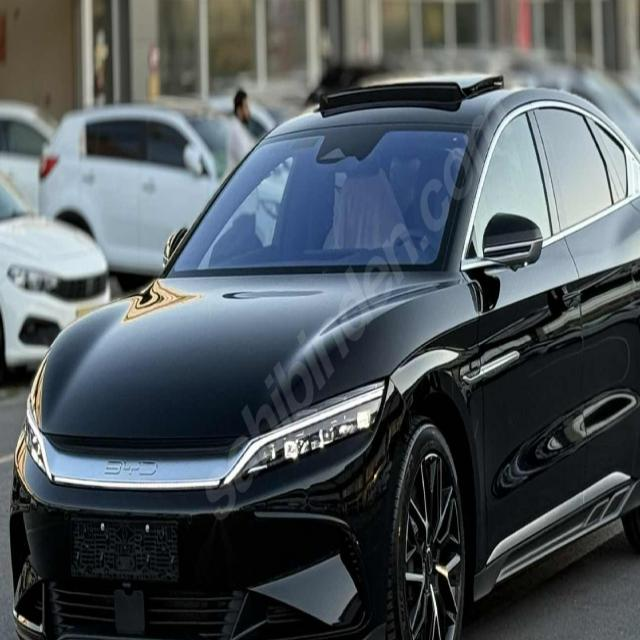byd: (102, 444, 160, 494)
